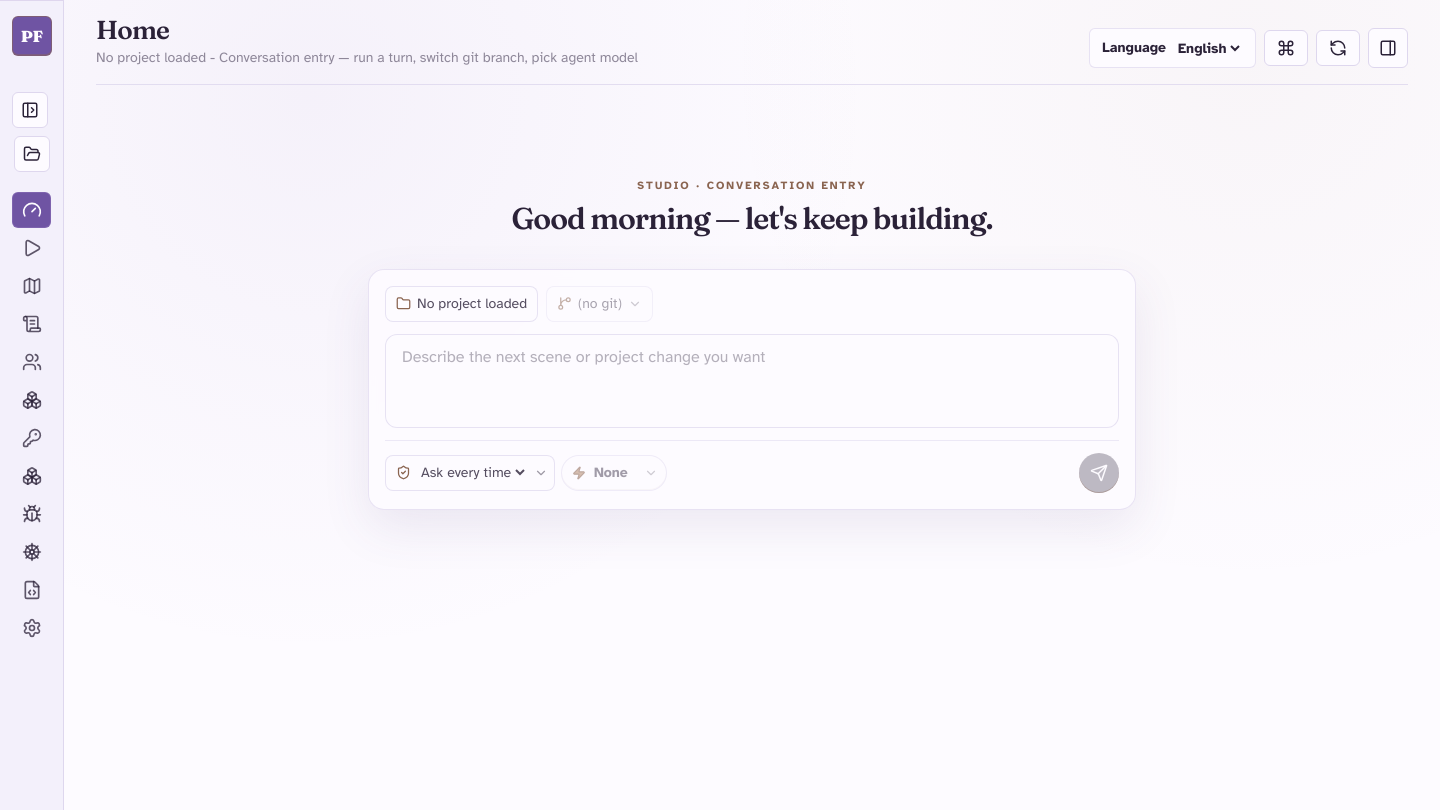
App › keeps a canonical project loaded when a secondary workspace read fails
Click the button titled "Open or create project". click: (32, 154)
box: left=14, top=136, right=50, bottom=172
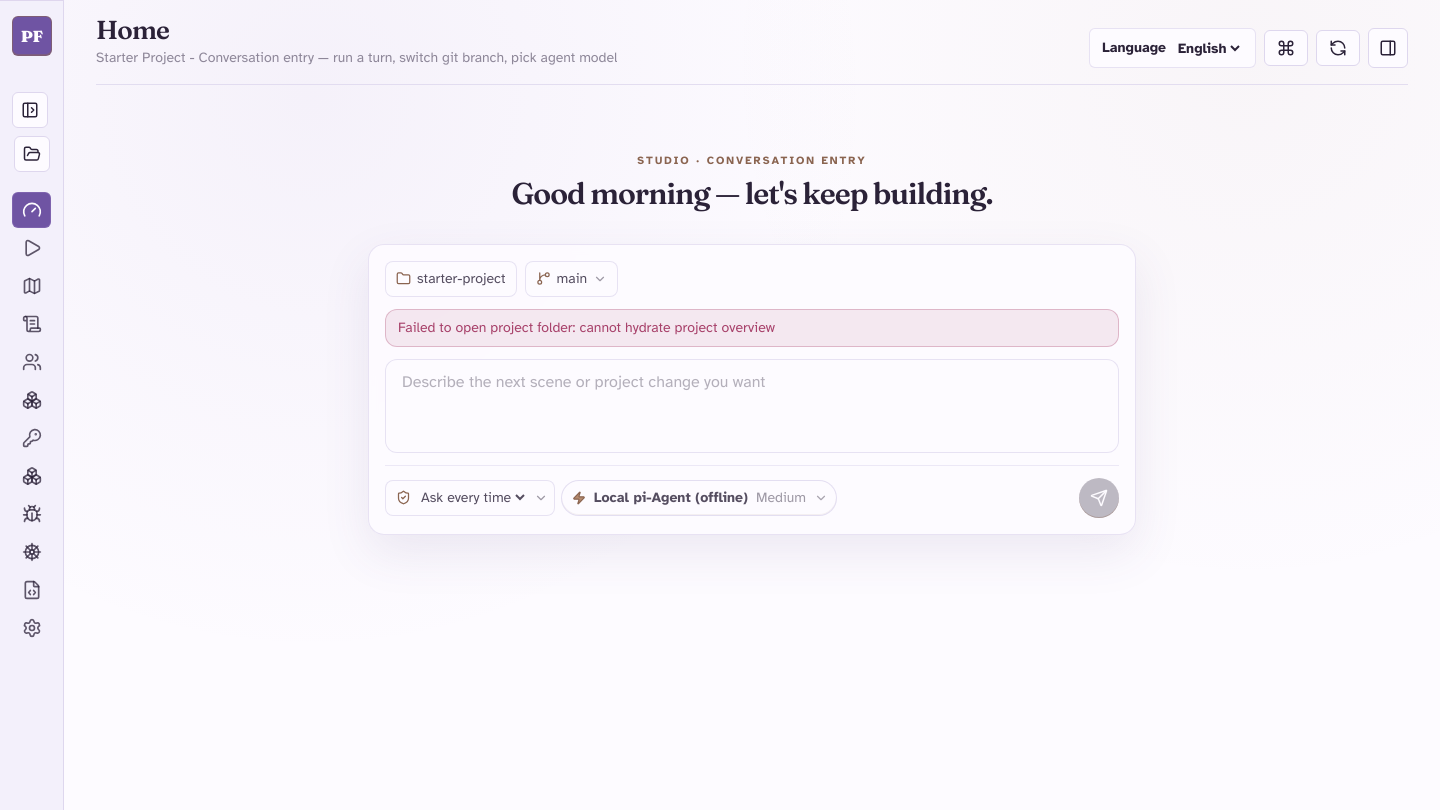
Now the text "starter-project" is shown, box left=417, top=269, right=506, bottom=289
Now the text "Failed to open project folder: cannot hydrate project overview" is shown, box left=398, top=319, right=775, bottom=336
